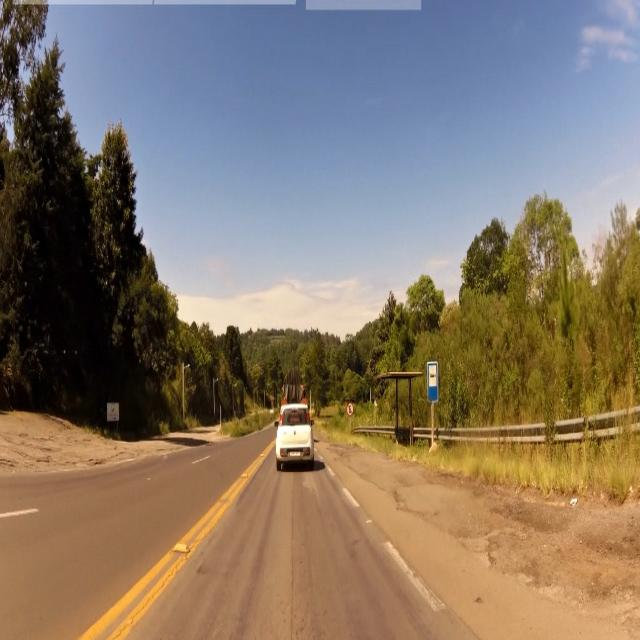S-14: (427, 361, 440, 406)
